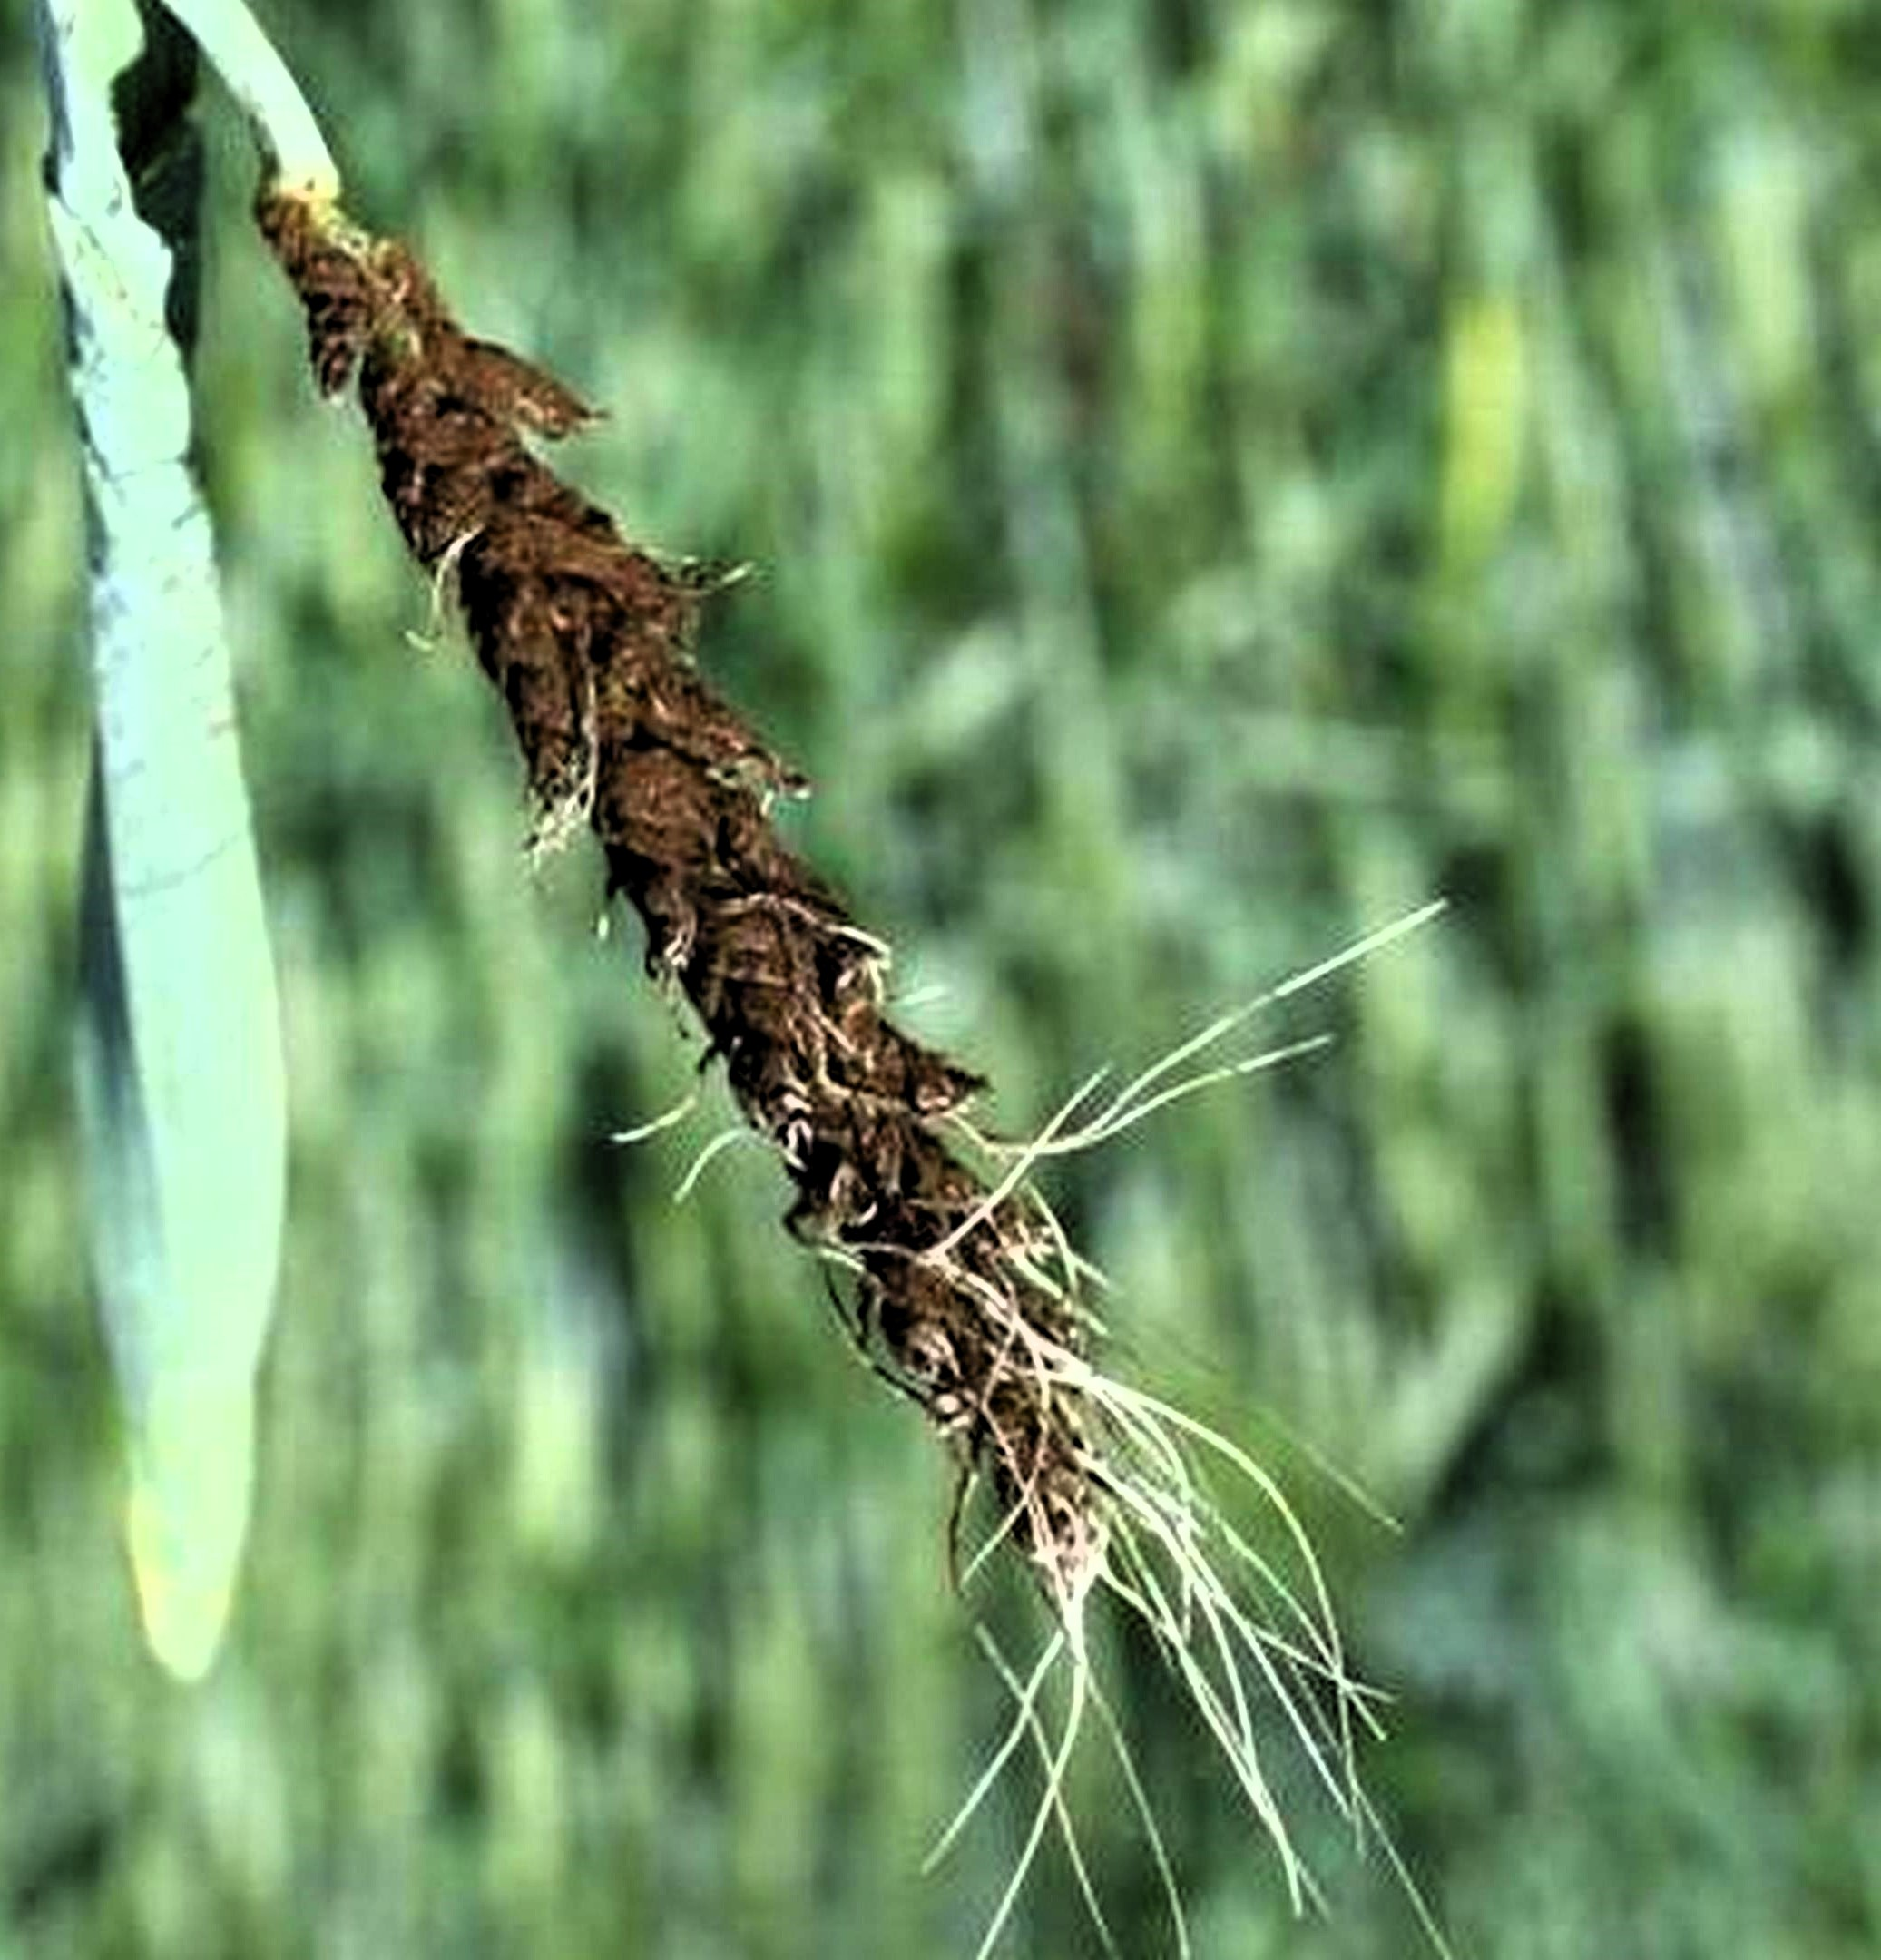Wheat Loose Smut: (520, 651, 1349, 1680)
